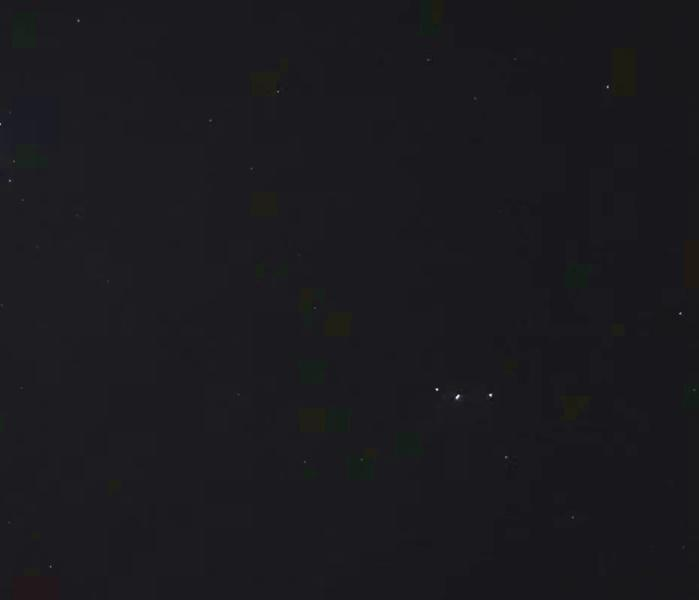Plane: (426, 386, 509, 404)
